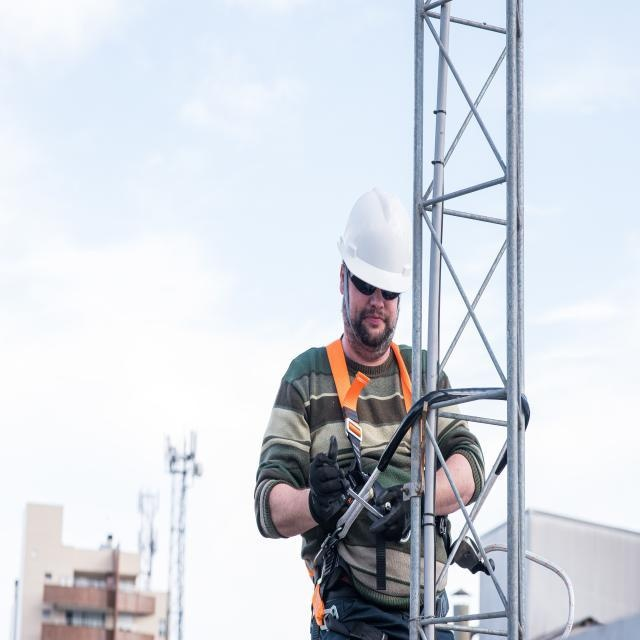Arnes_seguridad: (301, 333, 459, 640)
